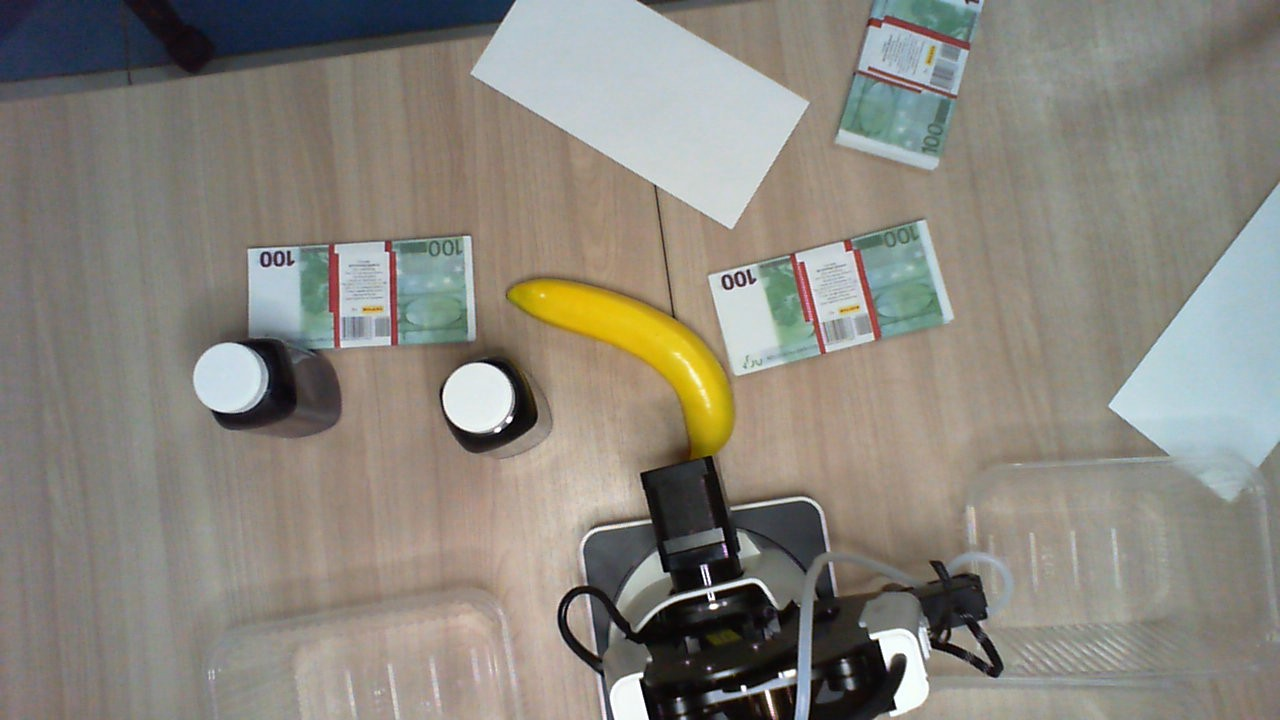banana: (503, 277, 739, 475)
bottle: (438, 355, 538, 454), (195, 335, 289, 430)
convert: (469, 1, 809, 229), (1107, 183, 1280, 504)
money: (707, 218, 956, 380), (247, 237, 477, 350), (837, 1, 984, 177)
